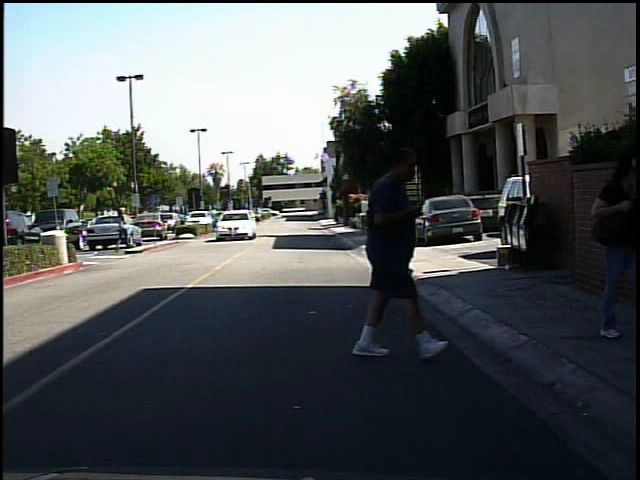person: (337, 143, 443, 370), (580, 135, 639, 344), (111, 203, 134, 255)
